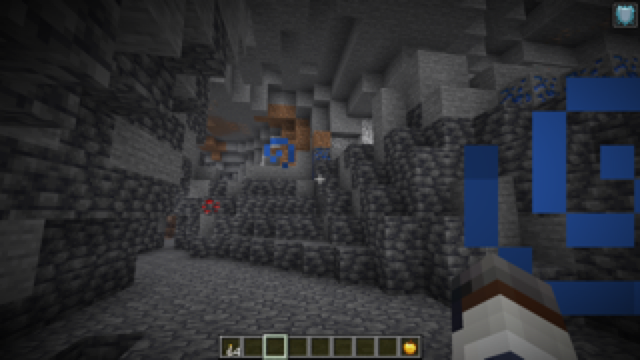lapis: (498, 51, 640, 110), (312, 147, 331, 165)
redstone: (200, 196, 223, 218)
